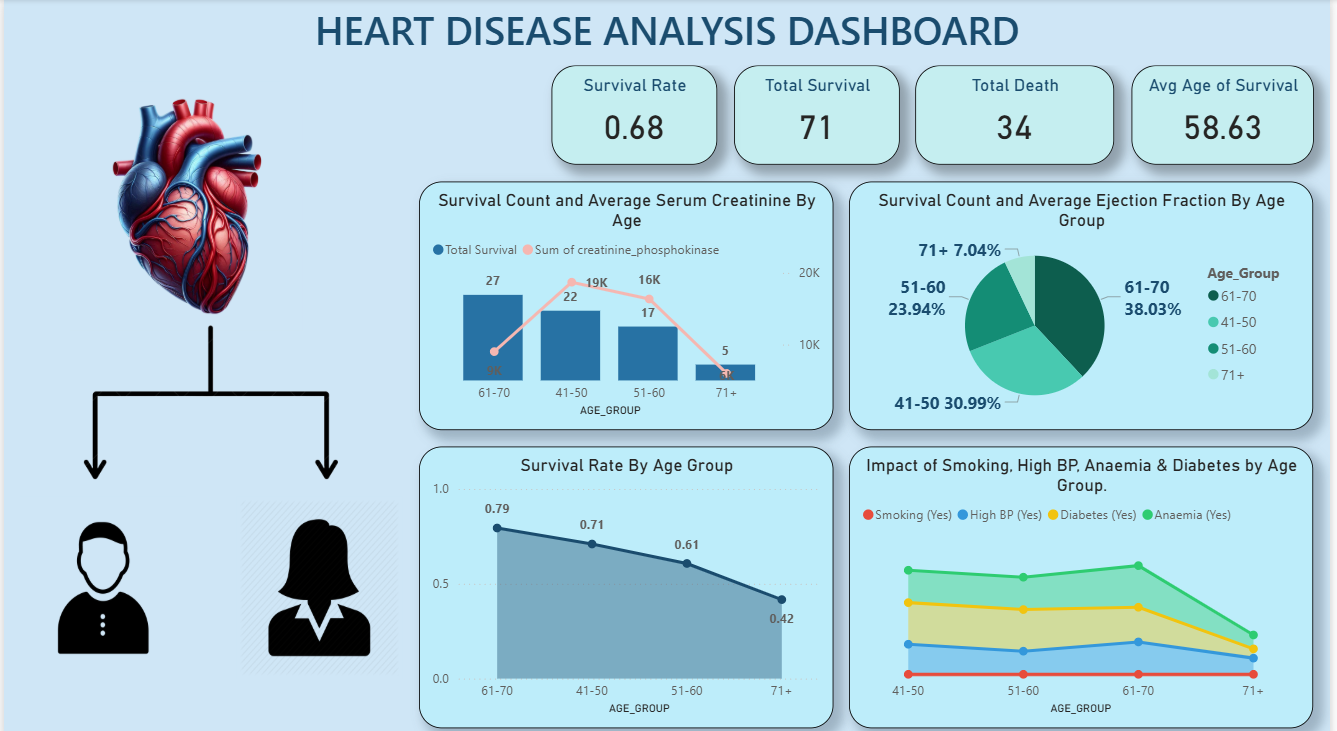

The dashboard page shown, as its layout file describes it:
{"tool":"powerbi","page":{"name":"Page 1","canvas":[1280,720],"ordinal":0},"visuals":[{"type":"card","title":"Total Survival","fields":{"Values":["heartfail.Total Survival"]},"box":[704,64,160,96],"z":0},{"type":"card","title":"Survival Rate","fields":{"Values":["heartfail.Survival Rate"]},"box":[528,64,160,96],"z":1000},{"type":"card","title":"Total Death","fields":{"Values":["heartfail.Total Death"]},"box":[880,64,192,96],"z":2000},{"type":"card","title":"Avg Age of Survival","fields":{"Values":["heartfail.Survival % by Age"]},"box":[1088,64,176,96],"z":3000},{"type":"lineClusteredColumnComboChart","title":"Survival Count and Average Serum Creatinine By Age","fields":{"Category":["heartfail.AGE_GROUP"],"Y":["heartfail.Total Survival"],"Y2":["Sum(heartfail.creatinine_phosphokinase)"]},"box":[400,176,400,240],"z":4000},{"type":"pieChart","title":"Survival Count and Average Ejection Fraction By Age Group","fields":{"Category":["heartfail.AGE_GROUP"],"Y":["heartfail.Total Survival"]},"box":[816,176,448,240],"z":5000},{"type":"areaChart","title":"Survival Rate By Age Group","fields":{"Category":["heartfail.AGE_GROUP"],"Y":["heartfail.Survival Rate"]},"box":[400,432,400,272],"z":6000},{"type":"stackedAreaChart","title":"Impact of Smoking, High BP, Anaemia & Diabetes by Age Group.","fields":{"Category":["heartfail.AGE_GROUP"],"Y":["heartfail.Smoking (Yes)","heartfail.High BP (Yes)","heartfail.Diabetes (Yes)","heartfail.Anaemia (Yes)"]},"box":[816,432,448,272],"z":7000},{"type":"textbox","box":[0,0,1280,64],"z":8000},{"type":"slicer","fields":{"Values":["heartfail.sex"]},"box":[0,704,16,16],"z":9000},{"type":"actionButton","title":"♂","box":[16,480,160,176],"z":10000},{"type":"actionButton","title":"♀","box":[224,480,160,176],"z":11000},{"type":"actionButton","box":[64,80,224,240],"z":12000},{"type":"image","box":[16,256,368,288],"z":13000}]}

Visuals, with their boxes in screenshot pixels (x1, y1, x2, y2), scaled from the page's 1280x720 canvas onto the 1337x731 screenshot:
"Total Survival" card: {"x1": 735, "y1": 65, "x2": 902, "y2": 162}
"Survival Rate" card: {"x1": 552, "y1": 65, "x2": 719, "y2": 162}
"Total Death" card: {"x1": 919, "y1": 65, "x2": 1120, "y2": 162}
"Avg Age of Survival" card: {"x1": 1136, "y1": 65, "x2": 1320, "y2": 162}
"Survival Count and Average Serum Creatinine By Age" lineClusteredColumnComboChart: {"x1": 418, "y1": 179, "x2": 836, "y2": 422}
"Survival Count and Average Ejection Fraction By Age Group" pieChart: {"x1": 852, "y1": 179, "x2": 1320, "y2": 422}
"Survival Rate By Age Group" areaChart: {"x1": 418, "y1": 439, "x2": 836, "y2": 715}
"Impact of Smoking, High BP, Anaemia & Diabetes by Age Group." stackedAreaChart: {"x1": 852, "y1": 439, "x2": 1320, "y2": 715}
textbox: {"x1": 0, "y1": 0, "x2": 1336, "y2": 65}
slicer - heartfail.sex: {"x1": 0, "y1": 715, "x2": 17, "y2": 730}
"♂" actionButton: {"x1": 17, "y1": 487, "x2": 184, "y2": 666}
"♀" actionButton: {"x1": 234, "y1": 487, "x2": 401, "y2": 666}
actionButton: {"x1": 67, "y1": 81, "x2": 301, "y2": 325}
image: {"x1": 17, "y1": 260, "x2": 401, "y2": 552}
